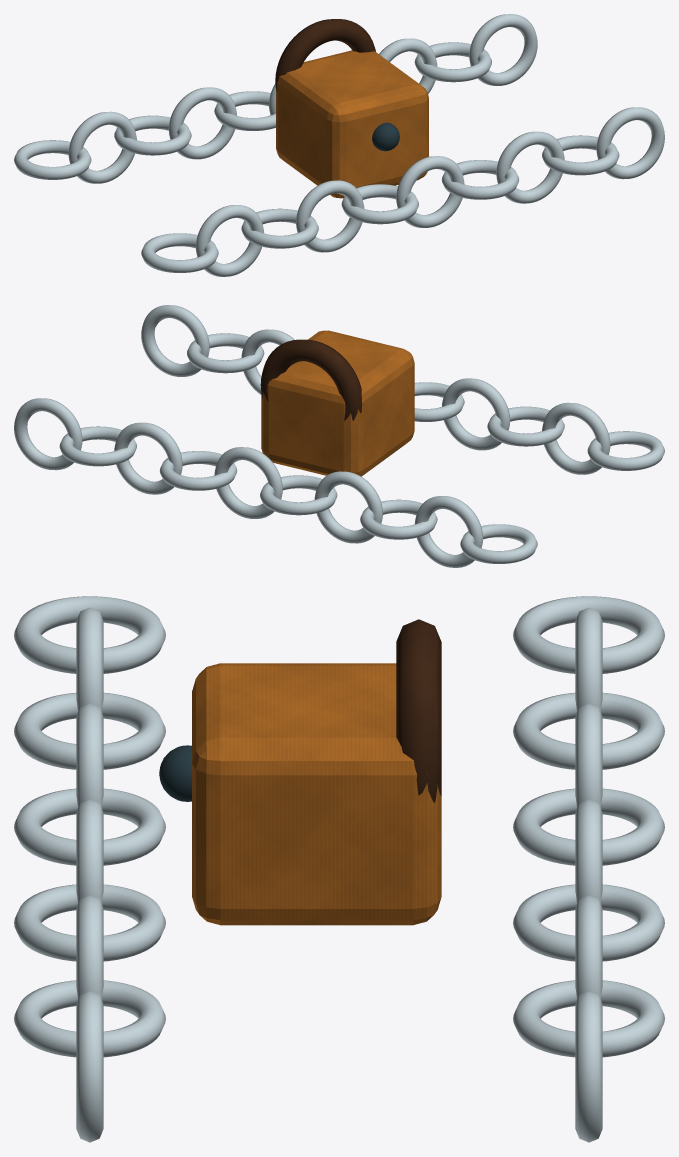
Rendered from relic_seal.glb.
3 renders of one model, top to bottom at view 1: azimuth 30°, elevation 25°; view 2: azimuth 150°, elevation 25°; view 3: azimuth 270°, elevation 25°, orthographic. The views are drawn at different scales.
Parts seen in each view (by area): view 1: Antique_silver, Brushed_gold, Patinated_bronze, Obsidian; view 2: Antique_silver, Brushed_gold, Patinated_bronze; view 3: Antique_silver, Brushed_gold, Patinated_bronze, Obsidian.
Part boxes in pixels (x1,y1,x2,y2): Antique_silver: (14, 14, 664, 276); Brushed_gold: (276, 50, 428, 198); Patinated_bronze: (275, 19, 375, 91); Obsidian: (372, 122, 399, 151); Antique_silver: (14, 305, 664, 567); Brushed_gold: (261, 330, 414, 476); Patinated_bronze: (260, 339, 362, 420); Antique_silver: (14, 596, 664, 1142); Brushed_gold: (192, 663, 441, 925); Patinated_bronze: (396, 619, 441, 802); Obsidian: (159, 745, 191, 801).
Bounding box in the file's own units: 1.03 × 0.287 × 0.574.
Materials: 4 (2 with a texture image).
